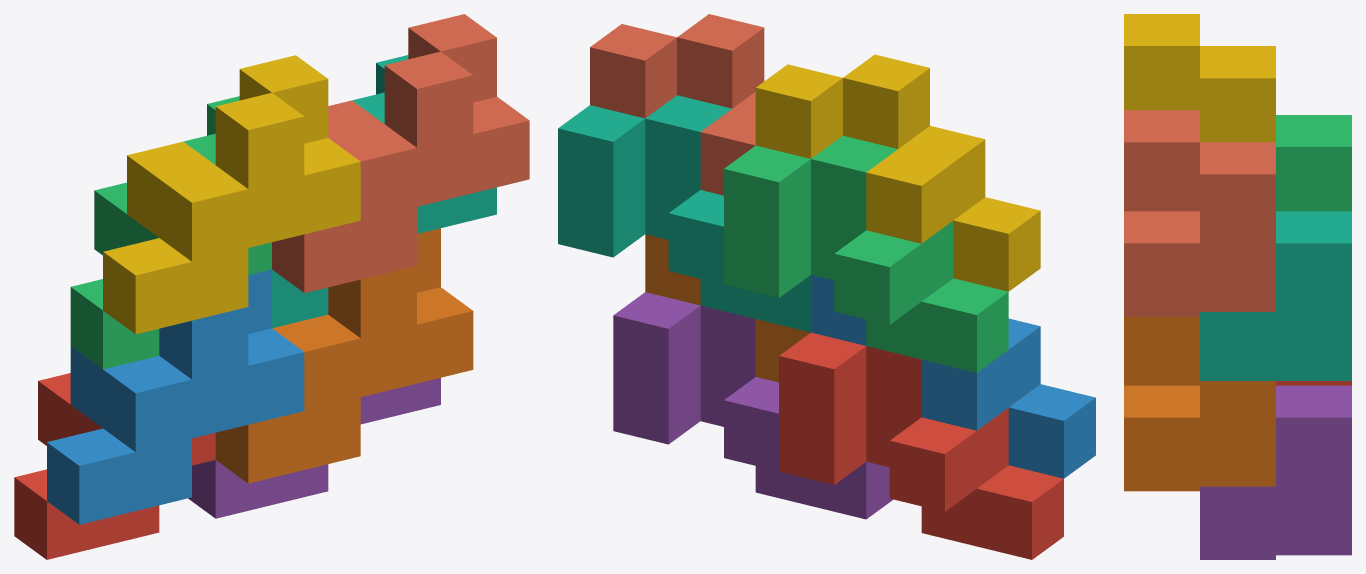
Rendered from tiling.obj.
3 views of the same model, side by side, from view 1: azimuth 30°, elevation 25°; view 2: azimuth 150°, elevation 25°; view 3: azimuth 270°, elevation 25° (orthographic). The views are drawn at different scales.
Visible parts, largest first — view 1: copy_1_domain_4, copy_1_domain_8, copy_1_domain_2, copy_1_domain_6, copy_1_domain_1, copy_1_domain_3, copy_1_domain_5, copy_1_domain_7; view 2: copy_1_domain_3, copy_1_domain_1, copy_1_domain_4, copy_1_domain_7, copy_1_domain_5, copy_1_domain_8, copy_1_domain_2, copy_1_domain_6; view 3: copy_1_domain_8, copy_1_domain_6, copy_1_domain_5, copy_1_domain_7, copy_1_domain_4, copy_1_domain_3, copy_1_domain_1.
Part boxes in pixels (x1,y1,x2,y2): copy_1_domain_4: (103, 55, 360, 334); copy_1_domain_8: (272, 14, 529, 292); copy_1_domain_2: (47, 269, 304, 524); copy_1_domain_6: (215, 228, 473, 483); copy_1_domain_1: (14, 373, 215, 559); copy_1_domain_3: (70, 96, 271, 369); copy_1_domain_5: (188, 378, 440, 518); copy_1_domain_7: (272, 55, 496, 328); copy_1_domain_3: (724, 135, 1008, 372); copy_1_domain_1: (779, 332, 1063, 559); copy_1_domain_4: (755, 54, 1040, 291); copy_1_domain_7: (558, 95, 810, 332); copy_1_domain_5: (613, 292, 893, 519); copy_1_domain_8: (590, 14, 764, 195); copy_1_domain_2: (811, 274, 1095, 478); copy_1_domain_6: (645, 234, 810, 382); copy_1_domain_8: (1124, 110, 1275, 316); copy_1_domain_6: (1124, 316, 1275, 491); copy_1_domain_5: (1200, 385, 1351, 559); copy_1_domain_7: (1200, 211, 1351, 380); copy_1_domain_4: (1124, 14, 1275, 142); copy_1_domain_3: (1276, 115, 1351, 211); copy_1_domain_1: (1276, 381, 1351, 385).
Size of the model in its own units: 8 by 7 by 3.
